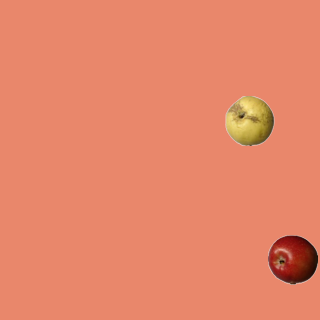Apple Braeburn: (267, 234, 317, 284)
Apple Golden 1: (224, 95, 274, 145)
